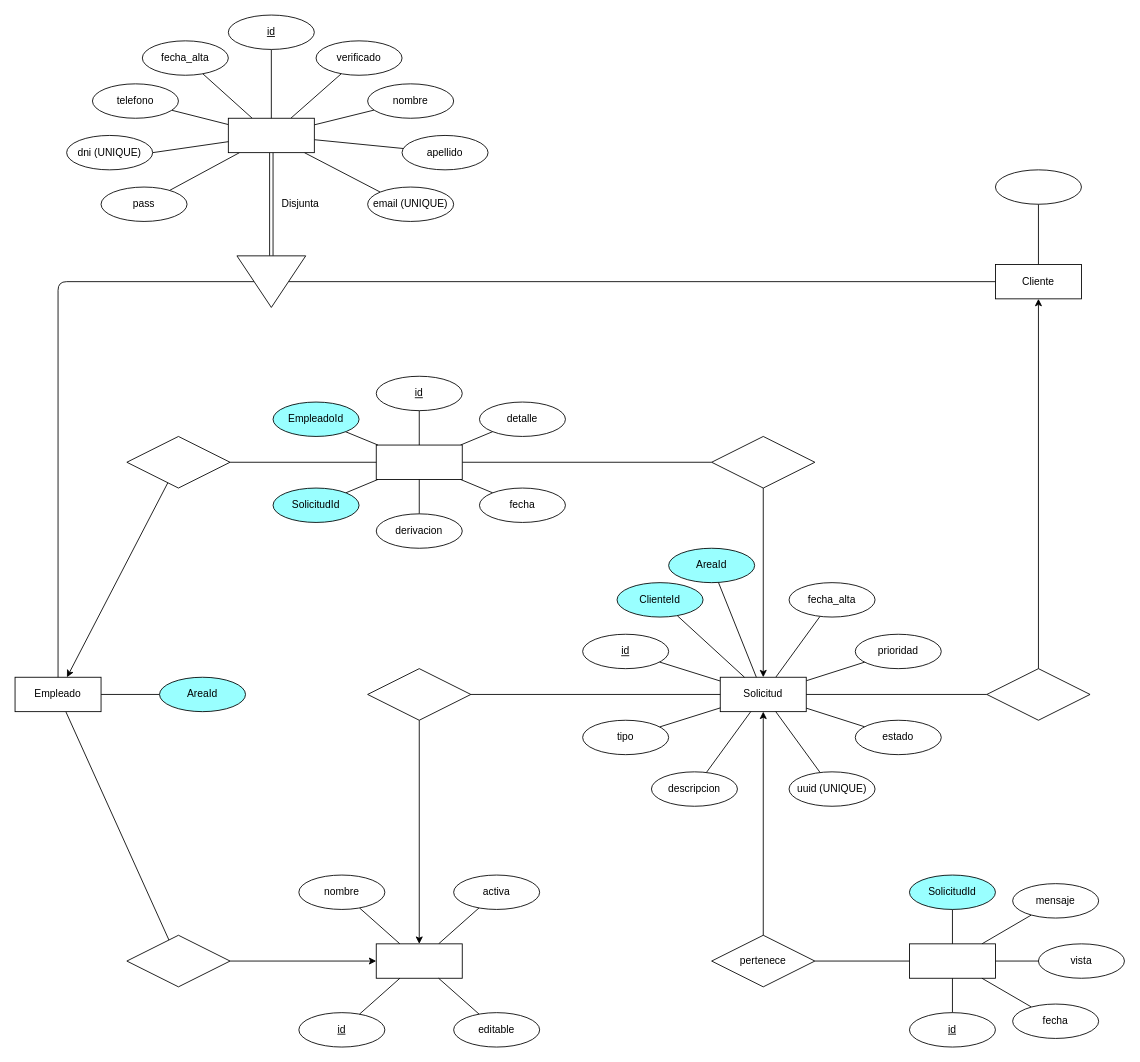
This 1140x1062 diagram has some shape labels left out. Here are the shapes that lost their labels. From the top down, the box of each, then its label:
(227, 117, 314, 153): Persona
(995, 169, 1081, 204): uuid
(236, 255, 306, 307): es
(126, 436, 230, 488): es generado
(375, 444, 462, 479): Historial
(711, 436, 815, 488): corresponde
(367, 668, 471, 720): es derivada
(986, 668, 1090, 720): es realizada
(126, 934, 230, 987): trabaja
(375, 943, 462, 978): Area
(909, 943, 995, 978): Notificacion
